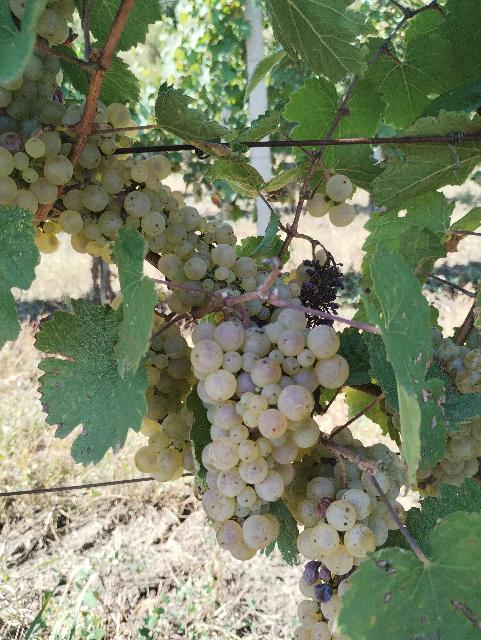grapes: (191, 310, 349, 560), (59, 156, 270, 295), (295, 444, 406, 640), (0, 51, 100, 211), (135, 330, 196, 481)
